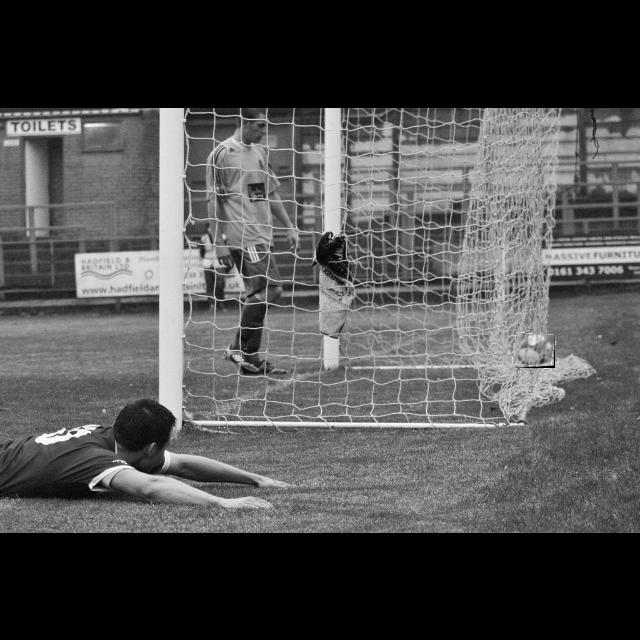Football: (513, 334, 555, 368)
